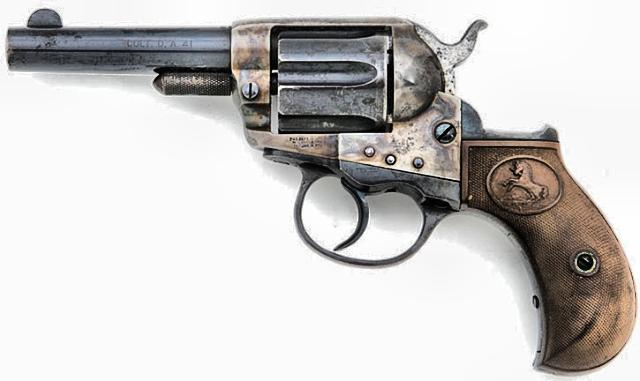pistol: (6, 6, 634, 374)
